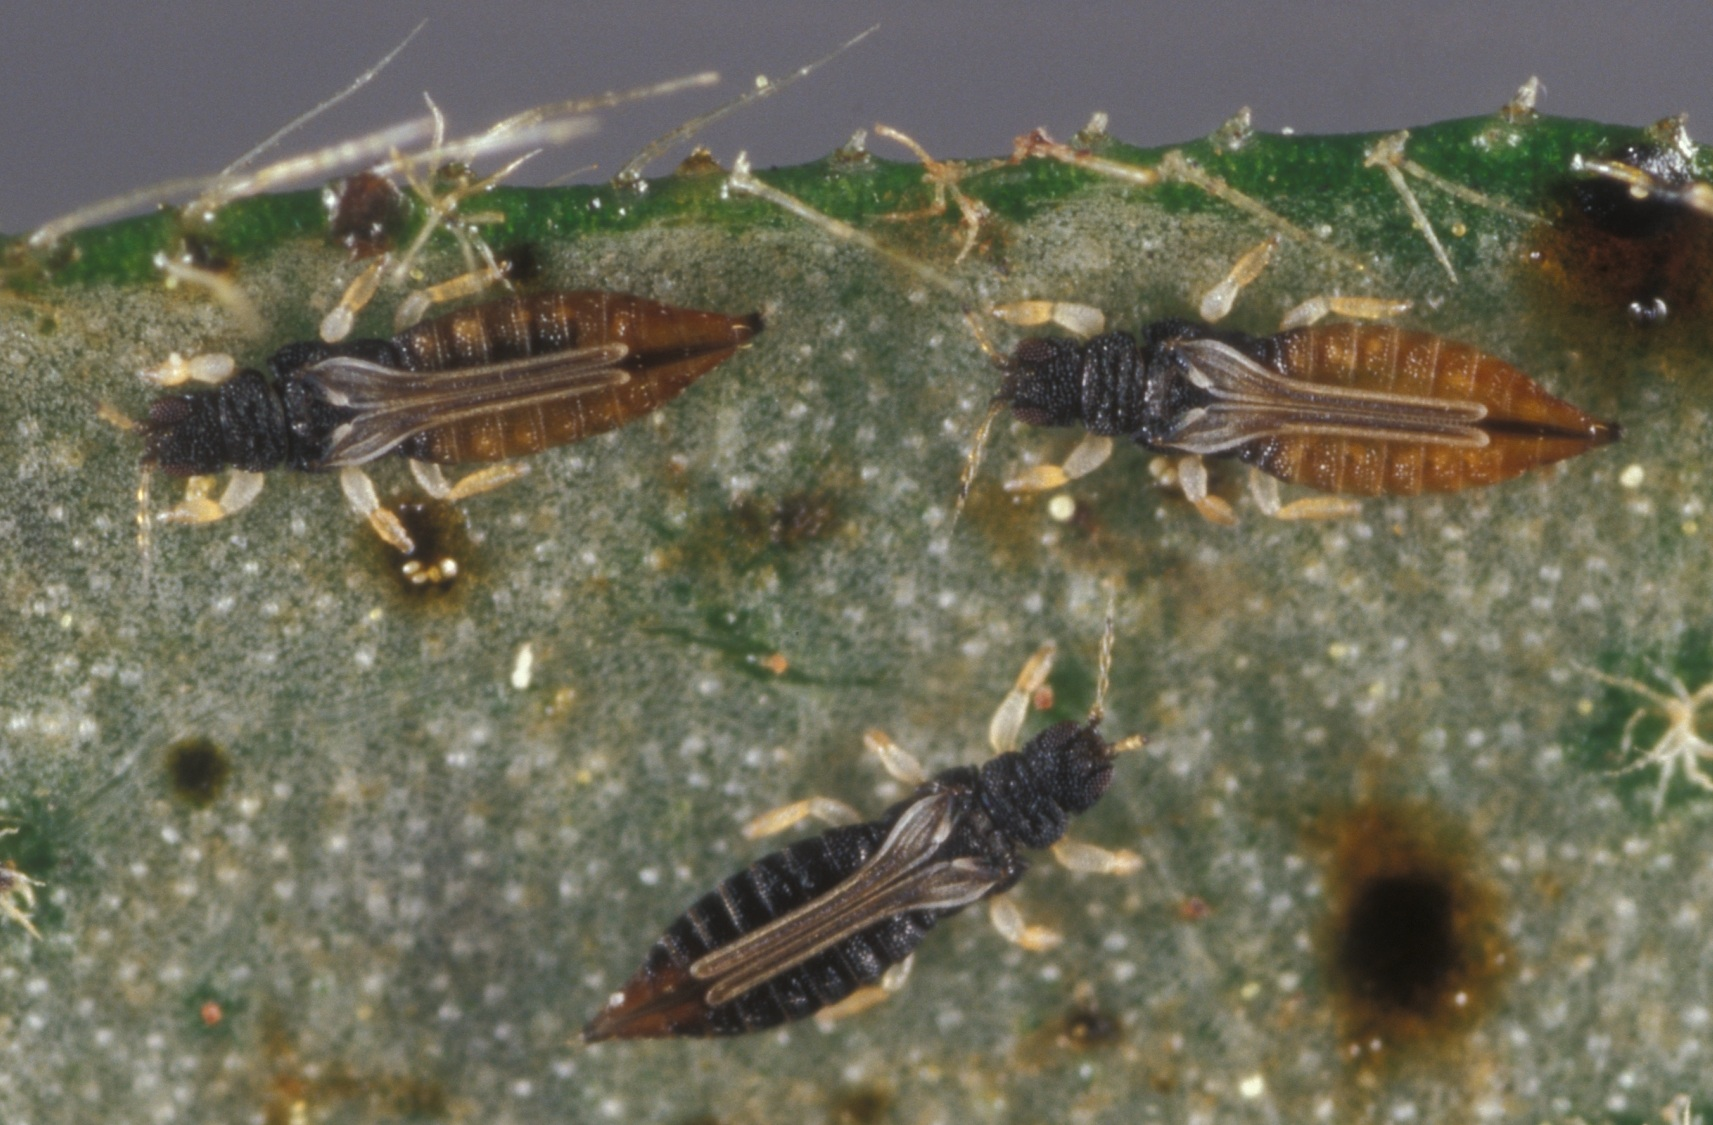Thrips: (81, 207, 788, 611), (566, 650, 1228, 1065), (930, 239, 1647, 575)
